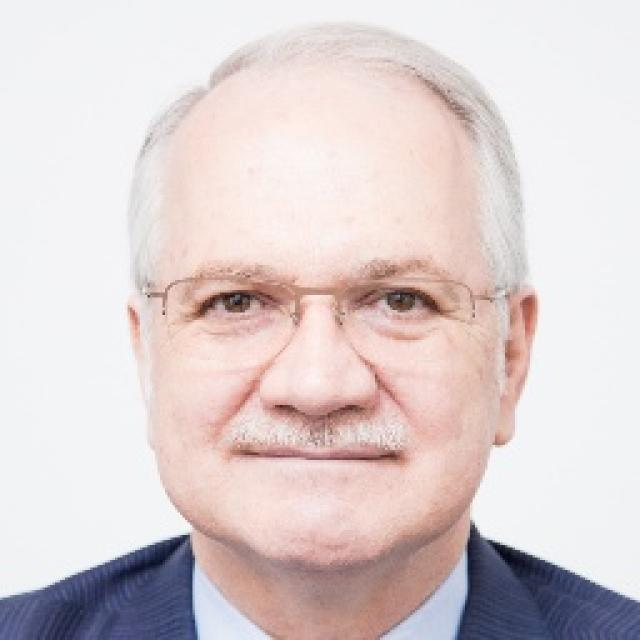earlobe: (491, 282, 540, 448), (126, 296, 158, 448)
